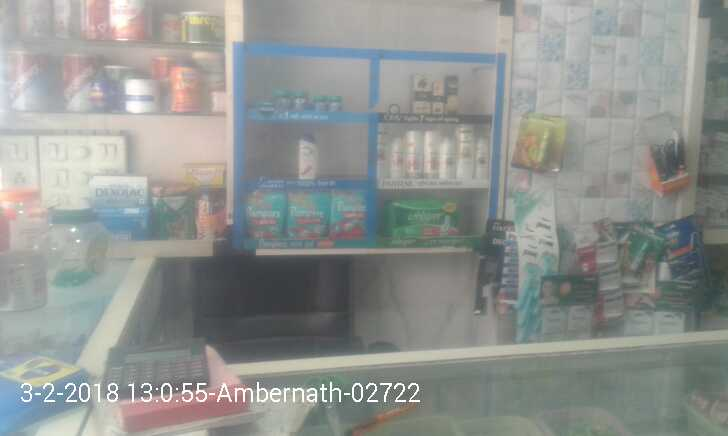vicks: (267, 89, 345, 117)
